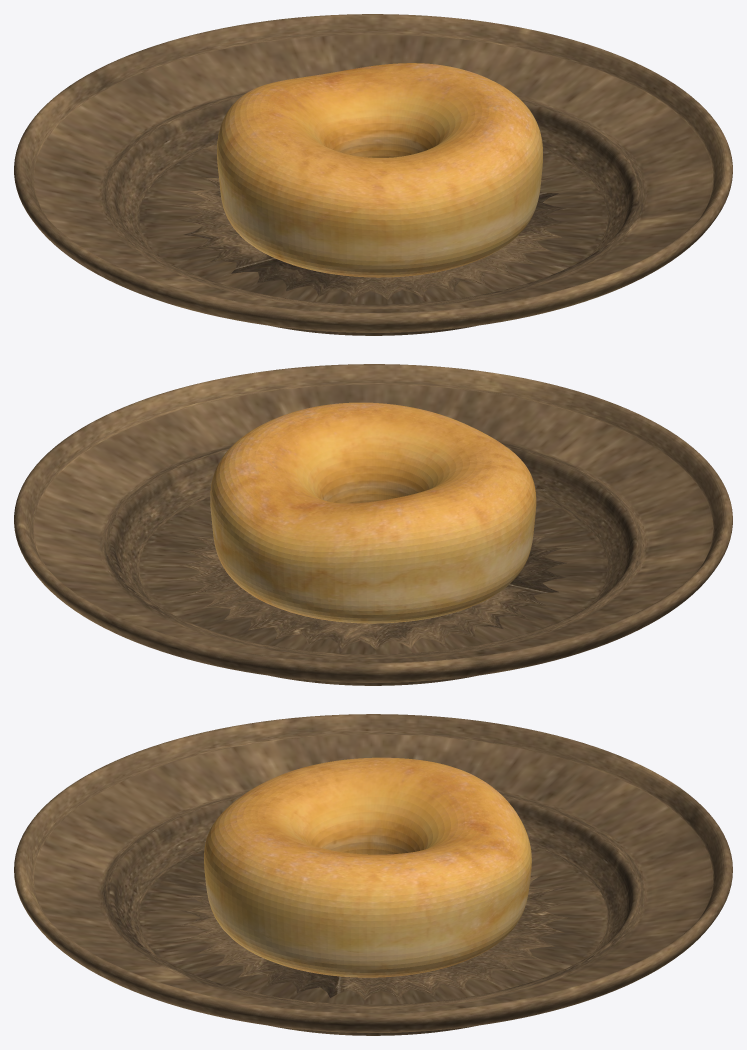
The model's file is donut_plate.glb.
The picture shows the model from 3 angles, top to bottom: view 1: azimuth 30°, elevation 25°; view 2: azimuth 150°, elevation 25°; view 3: azimuth 270°, elevation 25°; orthographic projection.
Visible parts, largest first — view 1: Plate2, Donut2; view 2: Plate2, Donut2; view 3: Plate2, Donut2.
Boxes of the visible parts, <box> form: Plate2: <box>14,14,732,335</box>; Donut2: <box>217,63,542,277</box>; Plate2: <box>14,364,732,685</box>; Donut2: <box>210,402,536,623</box>; Plate2: <box>14,714,732,1035</box>; Donut2: <box>204,757,531,977</box>.
Bounding box in the file's own units: 0.6817 × 0.1362 × 0.6817.
Materials: 2 (2 with a texture image).
